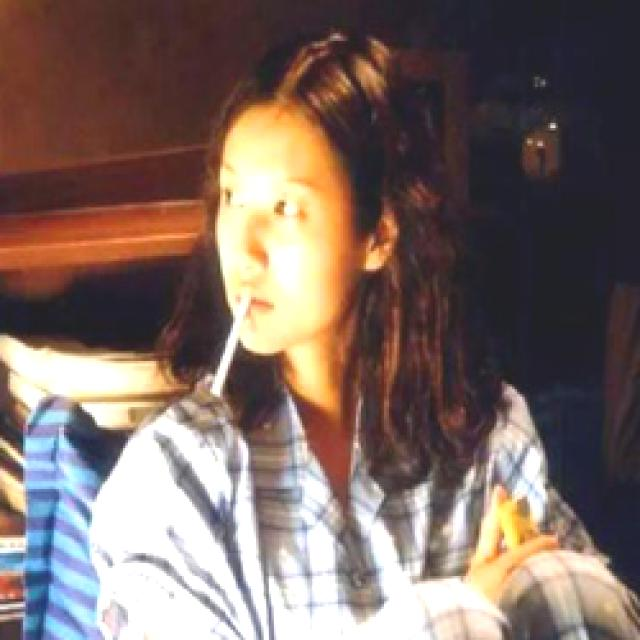Smooking: (201, 293, 268, 406)
